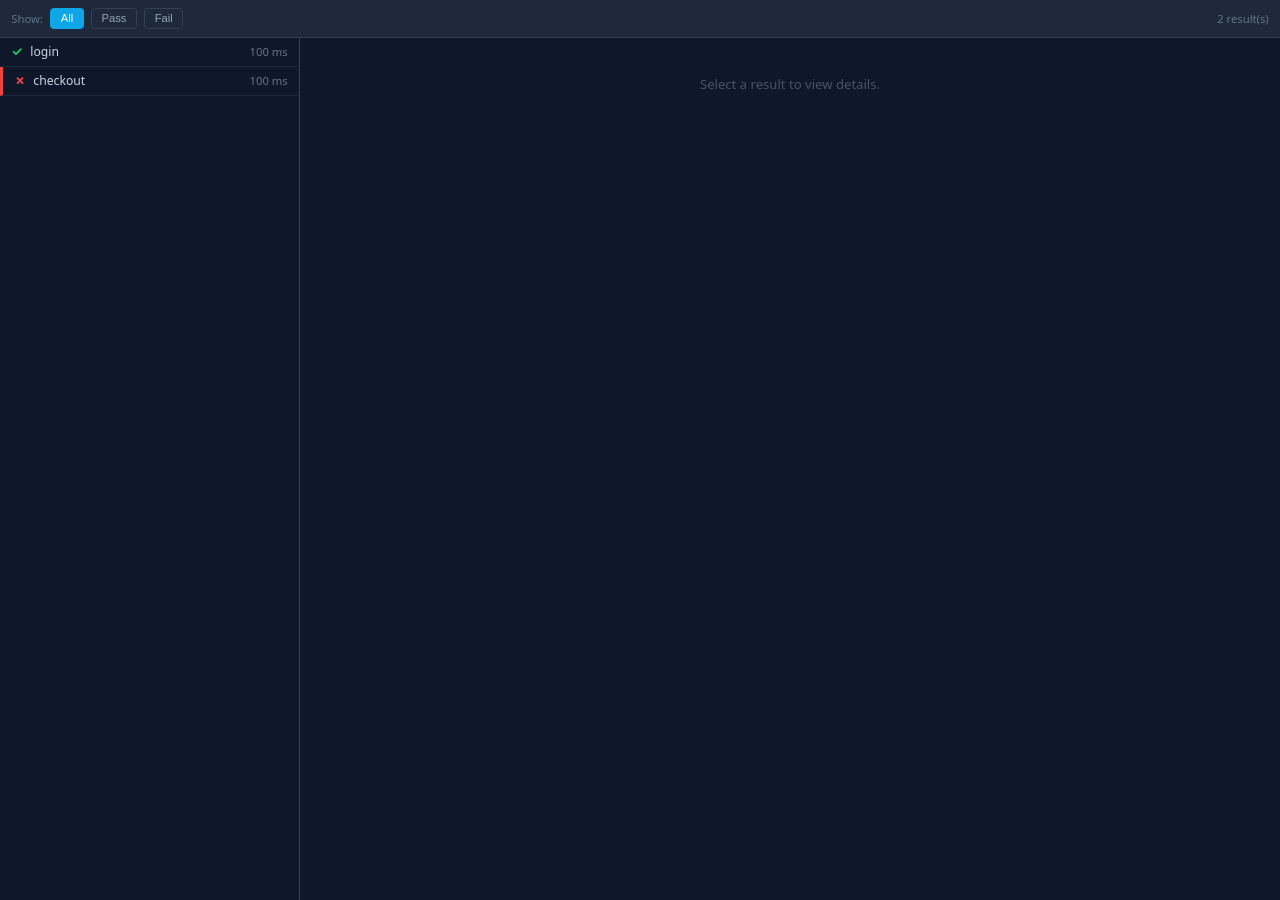
it: ViewResultsTree — fail filter › shows only failing items when Fail filter is active
Click the button with test id "filter-fail" at (164, 18), box [144,8,183,29]
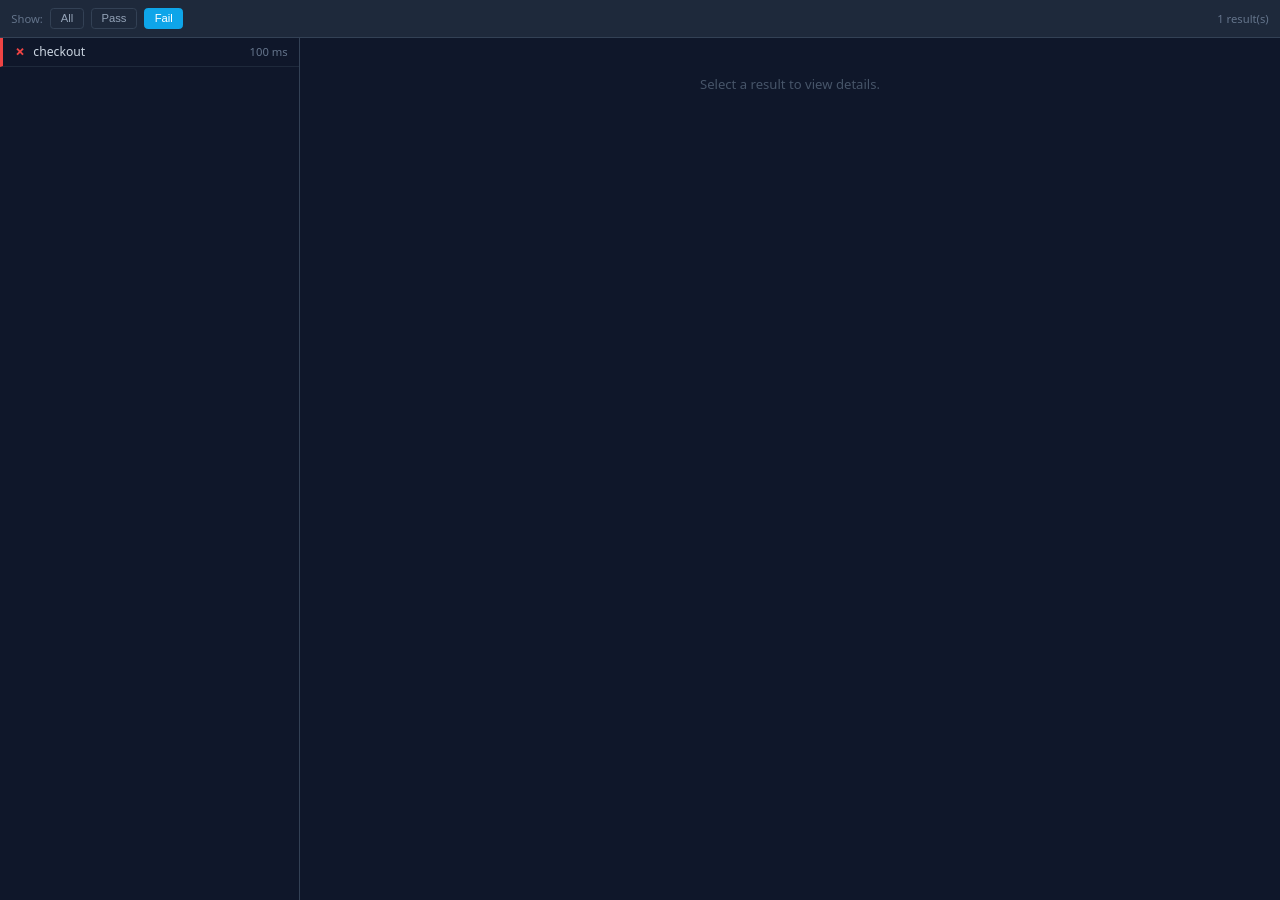
Expected: the text "checkout" is shown, [33,43,85,60]
Expected: the number of options is 1, [0,38,299,67]
